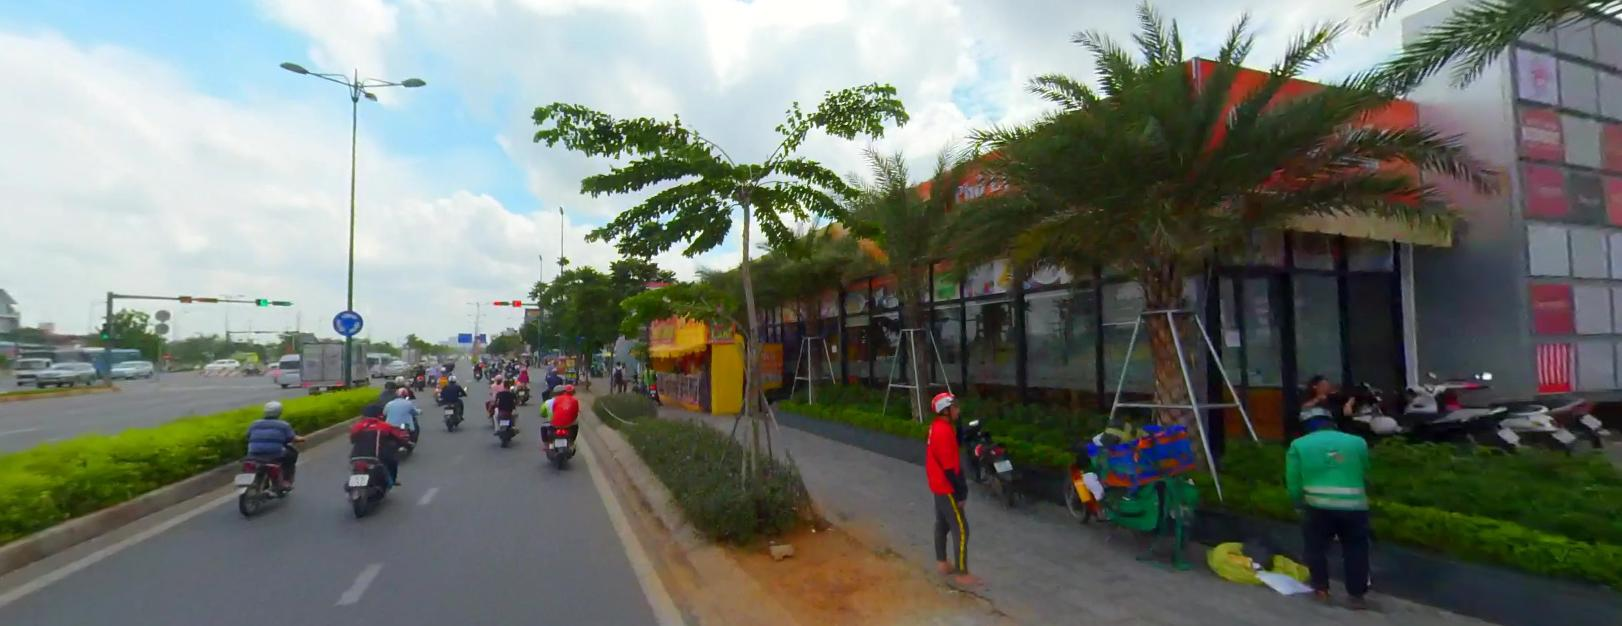Hieu lenh: (331, 308, 366, 336)
